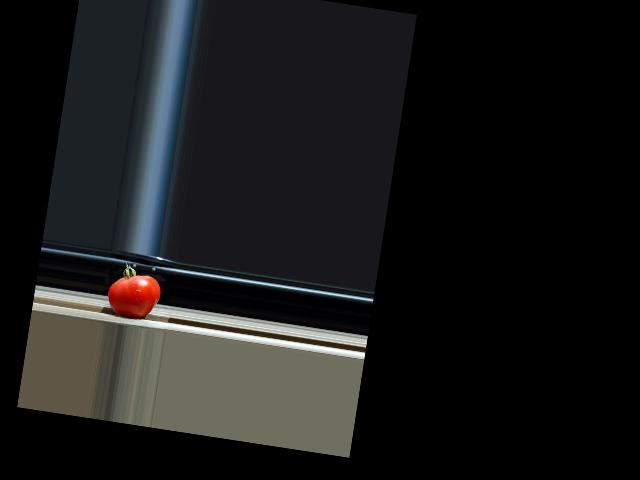tomato: (105, 261, 163, 320)
